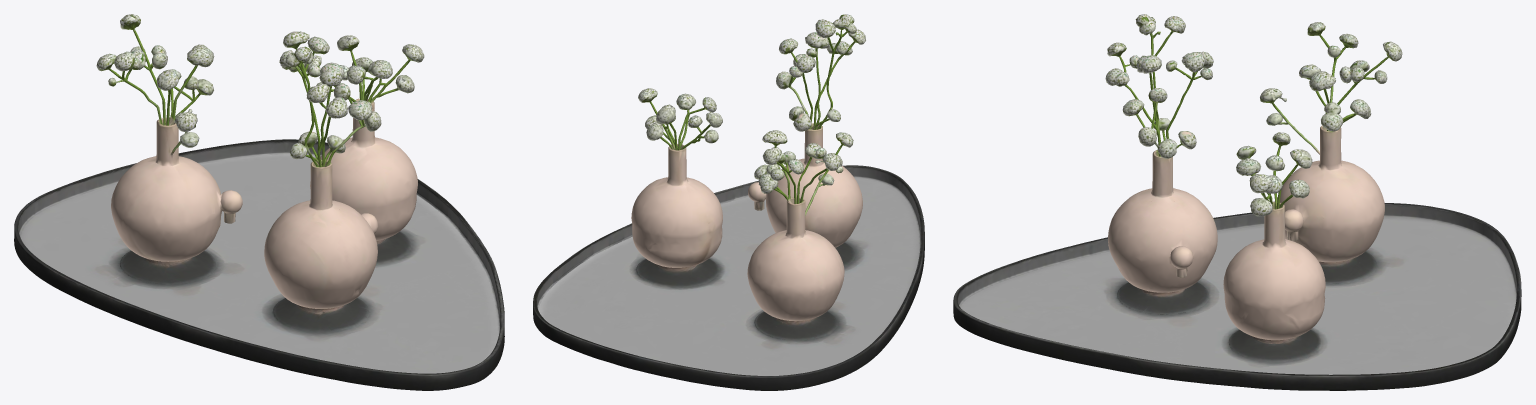
The model's file is decor-vases-rose-gold.glb.
The picture shows the model from 3 angles, left to right: view 1: azimuth 30°, elevation 25°; view 2: azimuth 150°, elevation 25°; view 3: azimuth 270°, elevation 25°; orthographic projection. The views are drawn at different scales.
Visible parts, largest first — view 1: tripo_node_175b04a3-2606-4aaf-8bbe-8c991c813949; view 2: tripo_node_175b04a3-2606-4aaf-8bbe-8c991c813949; view 3: tripo_node_175b04a3-2606-4aaf-8bbe-8c991c813949.
Boxes of the visible parts, x1,y1,x2,y2 form: tripo_node_175b04a3-2606-4aaf-8bbe-8c991c813949: [14, 14, 504, 390]; tripo_node_175b04a3-2606-4aaf-8bbe-8c991c813949: [533, 14, 924, 390]; tripo_node_175b04a3-2606-4aaf-8bbe-8c991c813949: [953, 14, 1521, 390].
Bounding box in the file's own units: 0.519 × 0.38 × 0.7169.
Materials: 1 (1 with a texture image).
